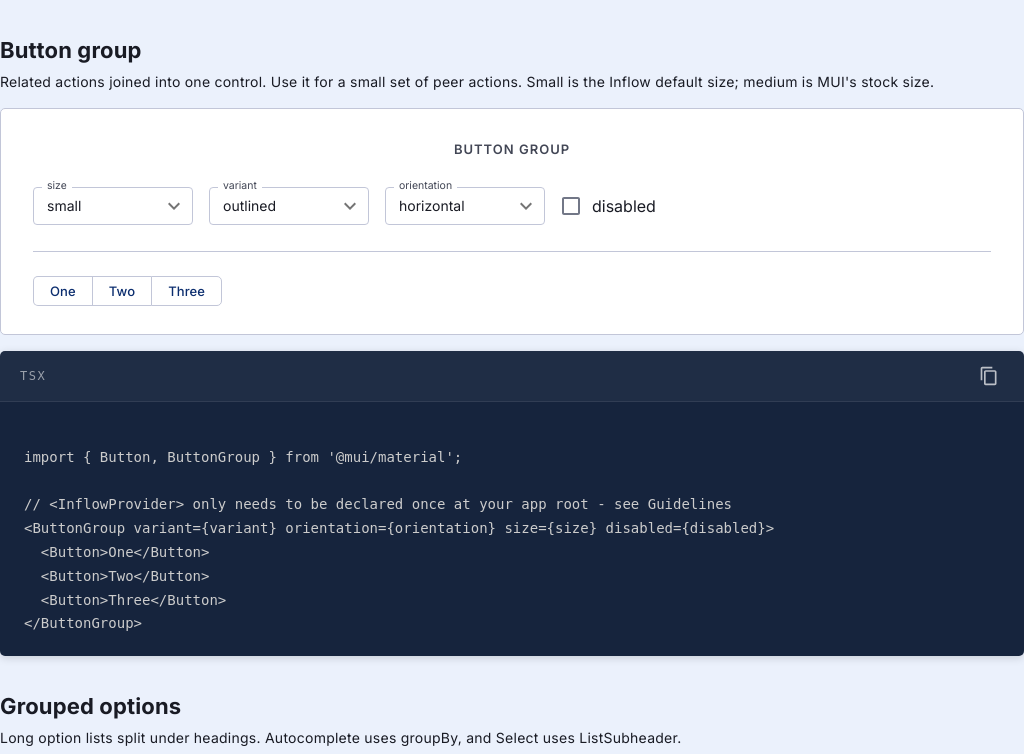
GroupedInputsDemo › disables each section from its own control
Click the checkbox labelled "disabled" at (607, 206), box 559,194 -> 656,218
(page scrolled)
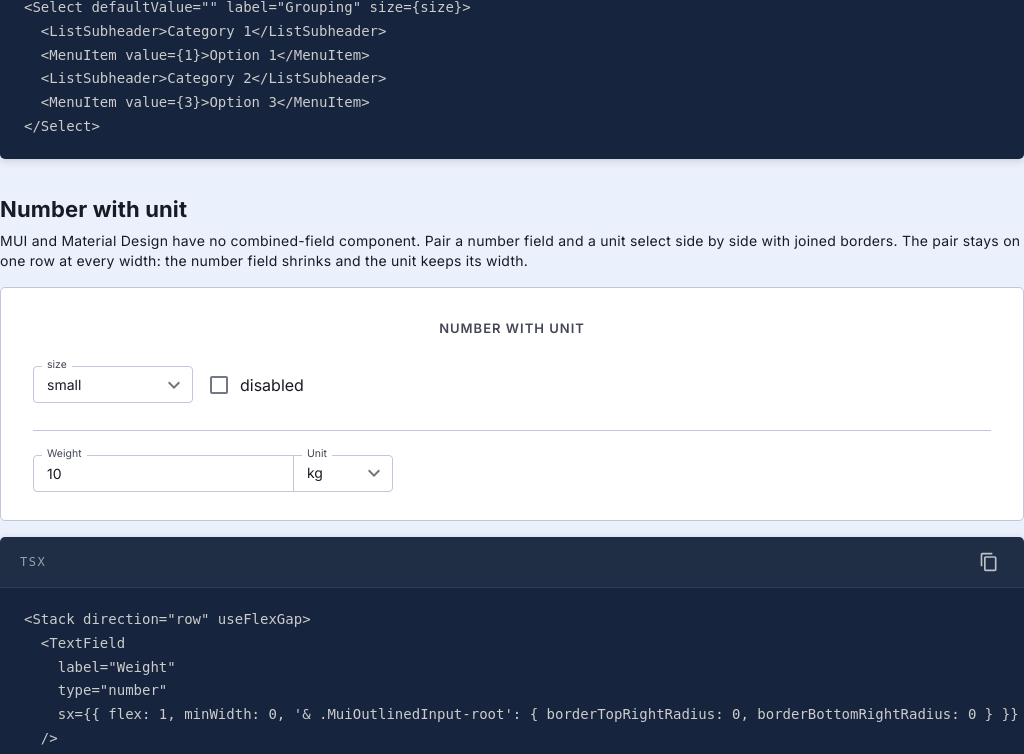
expect the number field labelled "Weight" is enabled: met, box 33,455 -> 294,492
Click the checkbox labelled "disabled" at (255, 385), box 207,373 -> 304,397
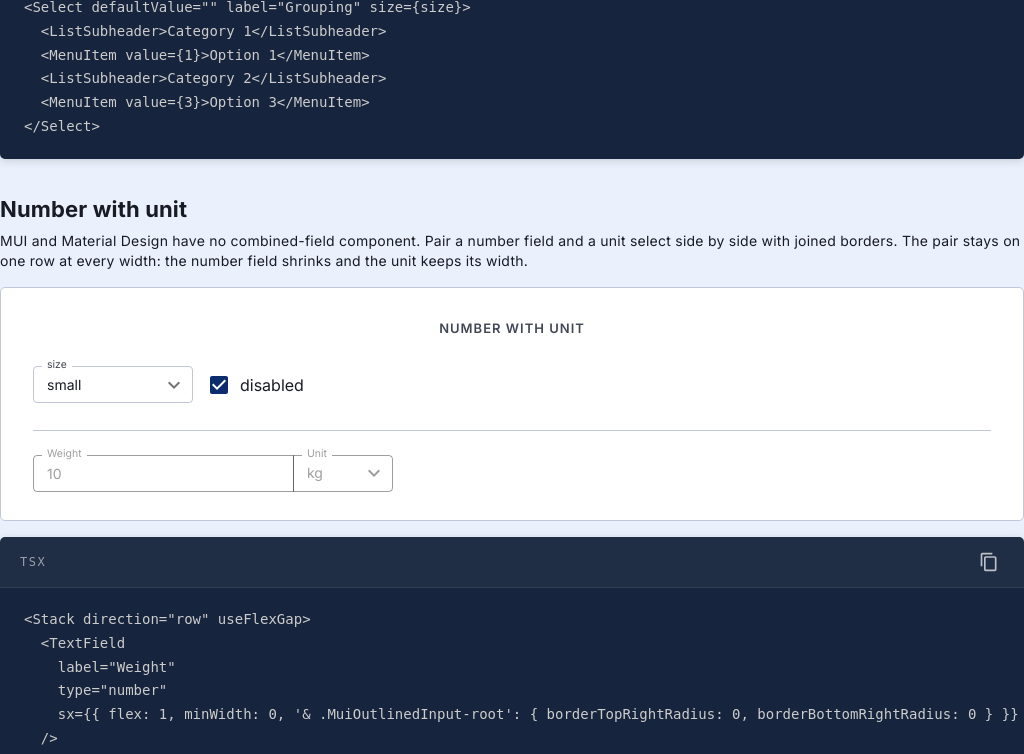
expect the number field labelled "Weight" is disabled: met, box 33,455 -> 294,492
